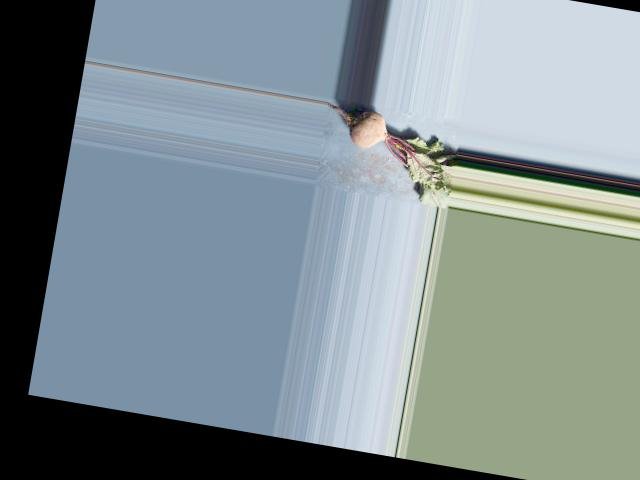beet: (314, 102, 463, 209)
